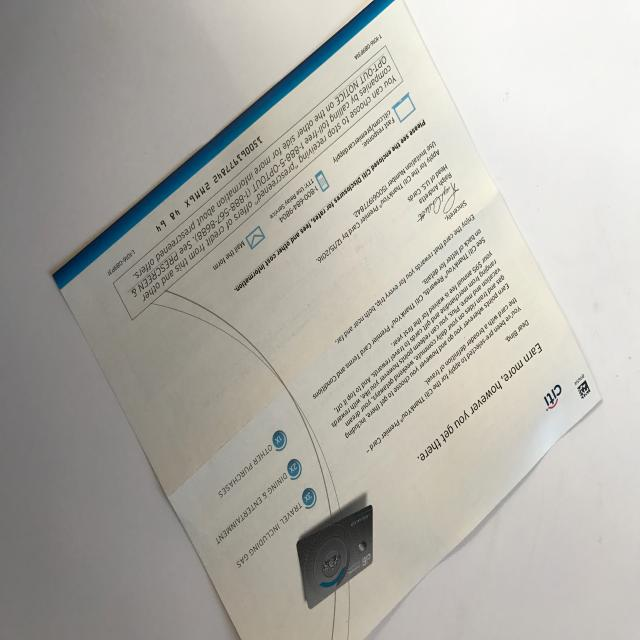paper: (49, 0, 603, 639)
